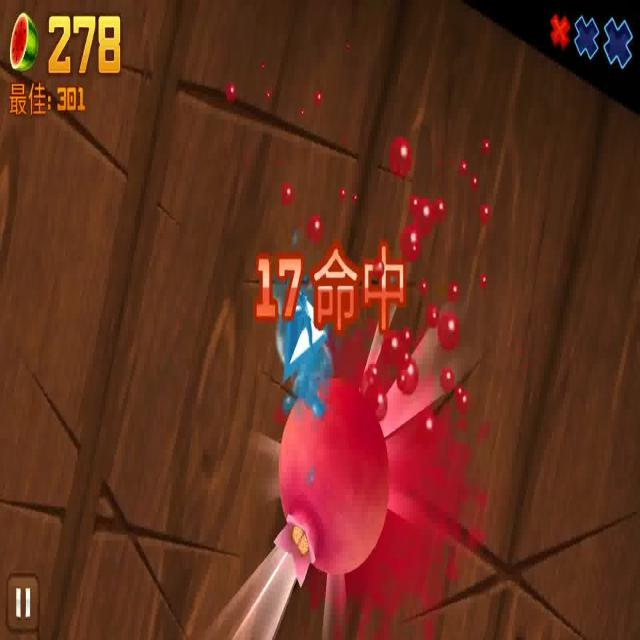fruit: (276, 380, 391, 571)
